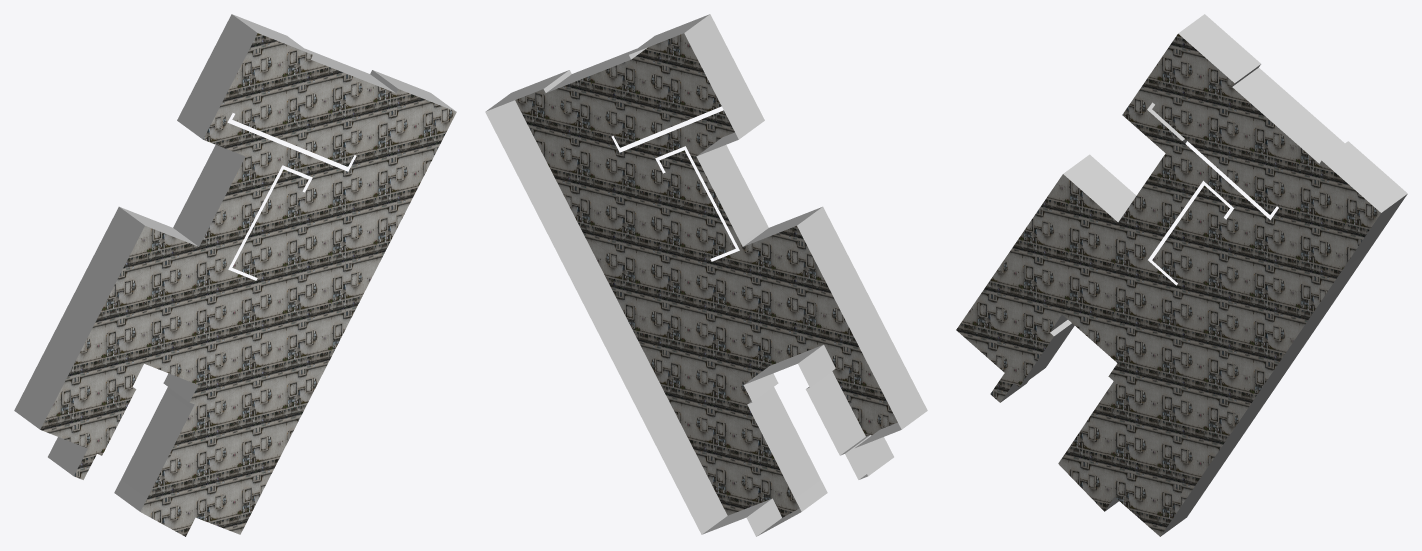
The model's file is geospecific_281.obj.
The picture shows the model from 3 angles, left to right: view 1: azimuth 30°, elevation 25°; view 2: azimuth 150°, elevation 25°; view 3: azimuth 330°, elevation 25°; orthographic projection. The views are drawn at different scales.
Visible parts, largest first — view 1: Building; view 2: Building; view 3: Building.
Boxes of the visible parts, x1=… form: Building: x1=14, y1=14, x2=456, y2=536; Building: x1=485, y1=14, x2=927, y2=536; Building: x1=956, y1=14, x2=1407, y2=536.
Size of the model in its own units: 166 by 189 by 18.
